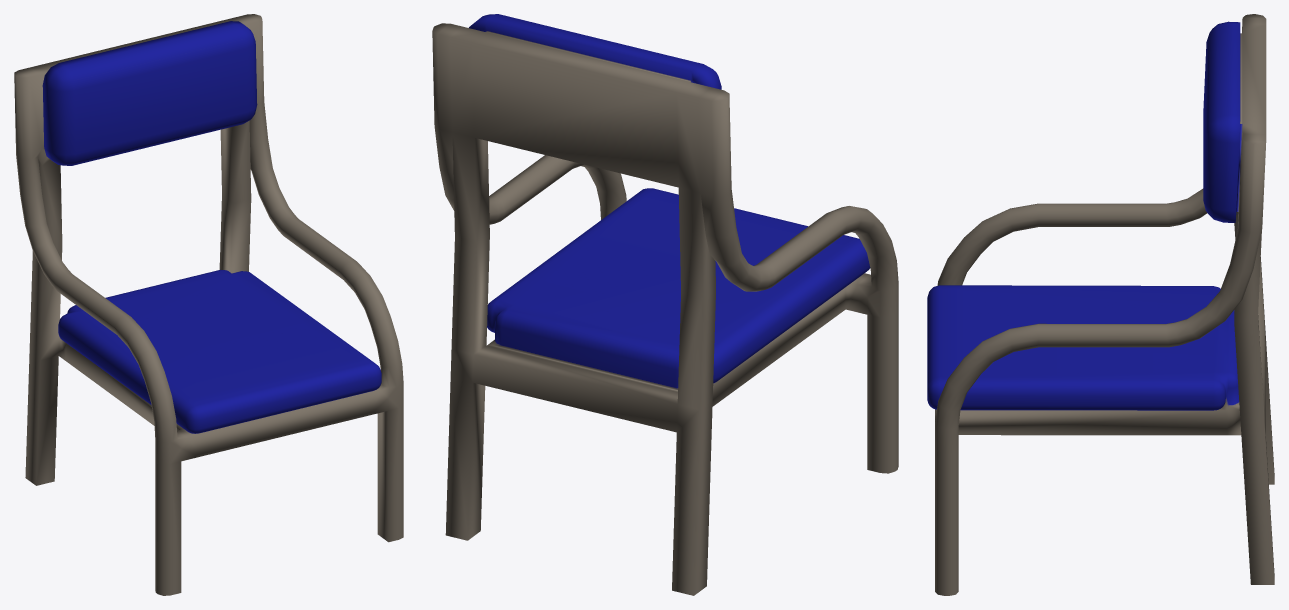
Rendered from ChairV4.fbx.
3 views of the same model, side by side, from view 1: azimuth 30°, elevation 25°; view 2: azimuth 150°, elevation 25°; view 3: azimuth 270°, elevation 25° (orthographic). The views are drawn at different scales.
Visible parts, largest first — view 1: Cube; view 2: Cube; view 3: Cube.
Boxes of the visible parts, box(x1,y1,x2,y2) form: Cube: box(14, 14, 403, 595); Cube: box(432, 14, 898, 595); Cube: box(927, 14, 1274, 595).
Size of the model in its own units: 69.68 by 115 by 78.48.
